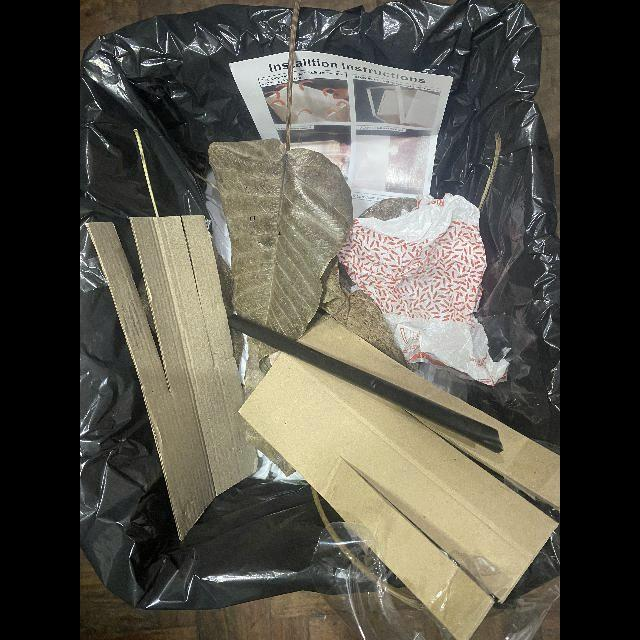cardboard: (239, 316, 560, 640), (84, 215, 256, 541)
paper: (230, 50, 453, 219), (337, 192, 510, 387)
